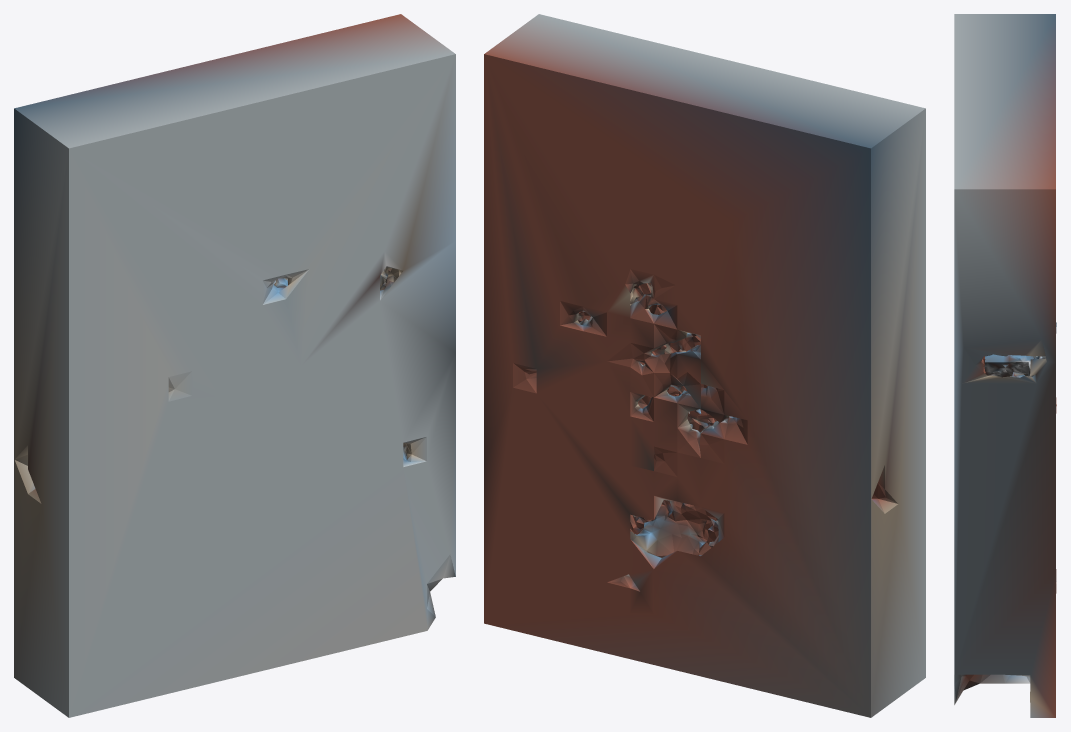
3 views of the same model, side by side, from view 1: azimuth 30°, elevation 25°; view 2: azimuth 150°, elevation 25°; view 3: azimuth 270°, elevation 25° (orthographic). The views are drawn at different scales.
Visible parts, largest first — view 1: node_0; view 2: node_0; view 3: node_0.
Part boxes in pixels (x1,y1,x2,y2): node_0: (14,14,455,717); node_0: (484,14,925,717); node_0: (954,14,1056,717).
Bounding box in the file's own units: 22.67 × 31.9 × 5.6.
